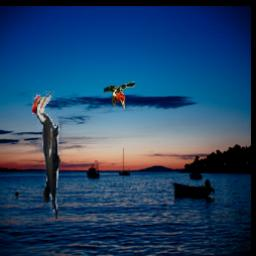Woodpecker: (32, 92, 62, 220), (104, 81, 138, 110)
